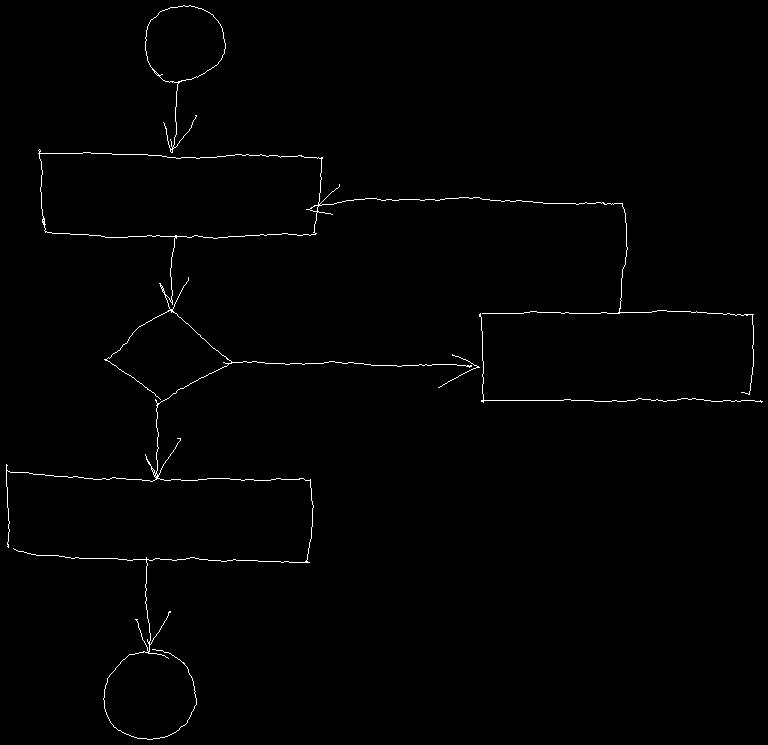arrow: (223, 354, 479, 387), (135, 557, 170, 652), (145, 399, 180, 479), (163, 81, 196, 152), (159, 235, 188, 312)
connection: (103, 649, 196, 739), (145, 5, 225, 82)
decision: (104, 309, 232, 405)
process: (6, 464, 313, 562), (479, 310, 762, 402), (38, 149, 322, 238)
text: (306, 184, 627, 313)
